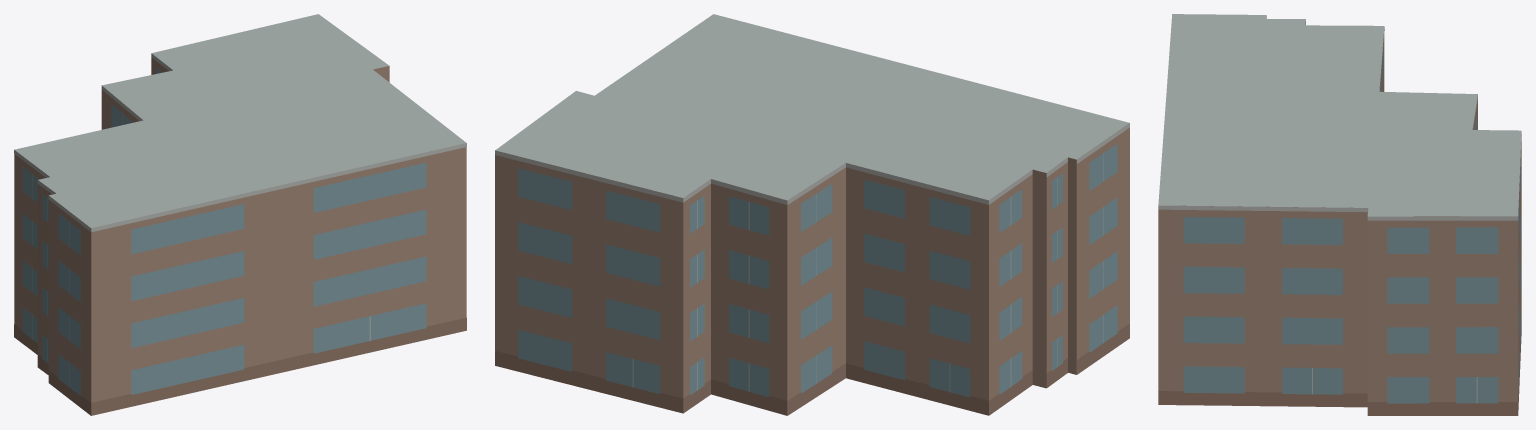
File: survey-upis-32583233.glb
3 renders of one model, left to right at view 1: azimuth 30°, elevation 25°; view 2: azimuth 150°, elevation 25°; view 3: azimuth 270°, elevation 25°, orthographic. The views are drawn at different scales.
Visible parts, largest first — view 1: survey-upis-32583233.tmp; view 2: survey-upis-32583233.tmp; view 3: survey-upis-32583233.tmp.
Boxes of the visible parts, box(x1,y1,x2,y2) form: survey-upis-32583233.tmp: box(14, 14, 466, 415); survey-upis-32583233.tmp: box(495, 14, 1129, 415); survey-upis-32583233.tmp: box(1158, 14, 1521, 415).
Bounding box in the file's own units: 25.12 × 11.53 × 19.05.
